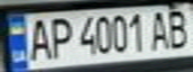0: (93, 11, 115, 55), (112, 11, 130, 54)
1: (127, 10, 148, 52)
4: (75, 12, 96, 55)
A: (24, 15, 54, 62), (148, 7, 172, 51)
B: (163, 7, 193, 51)
P: (45, 15, 75, 60)
